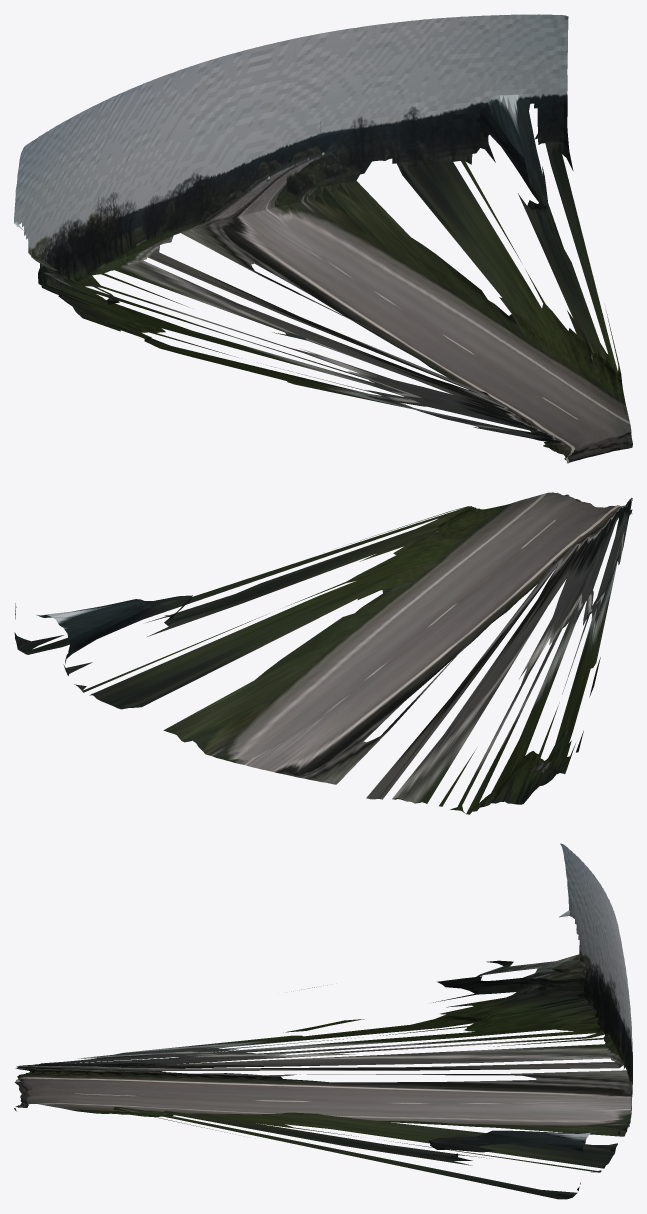
The picture shows the model from 3 angles, top to bottom: view 1: azimuth 30°, elevation 25°; view 2: azimuth 150°, elevation 25°; view 3: azimuth 270°, elevation 25°; orthographic projection. The views are drawn at different scales.
Parts seen in each view (by area): view 1: defaultobject; view 2: defaultobject; view 3: defaultobject.
Boxes of the visible parts, box(x1,y1,x2,y2) form: defaultobject: box(14, 14, 632, 463); defaultobject: box(14, 492, 632, 814); defaultobject: box(14, 843, 632, 1199).
Size of the model in its own units: 41.06 by 13.04 by 44.44.
Materials: 1 (1 with a texture image).
